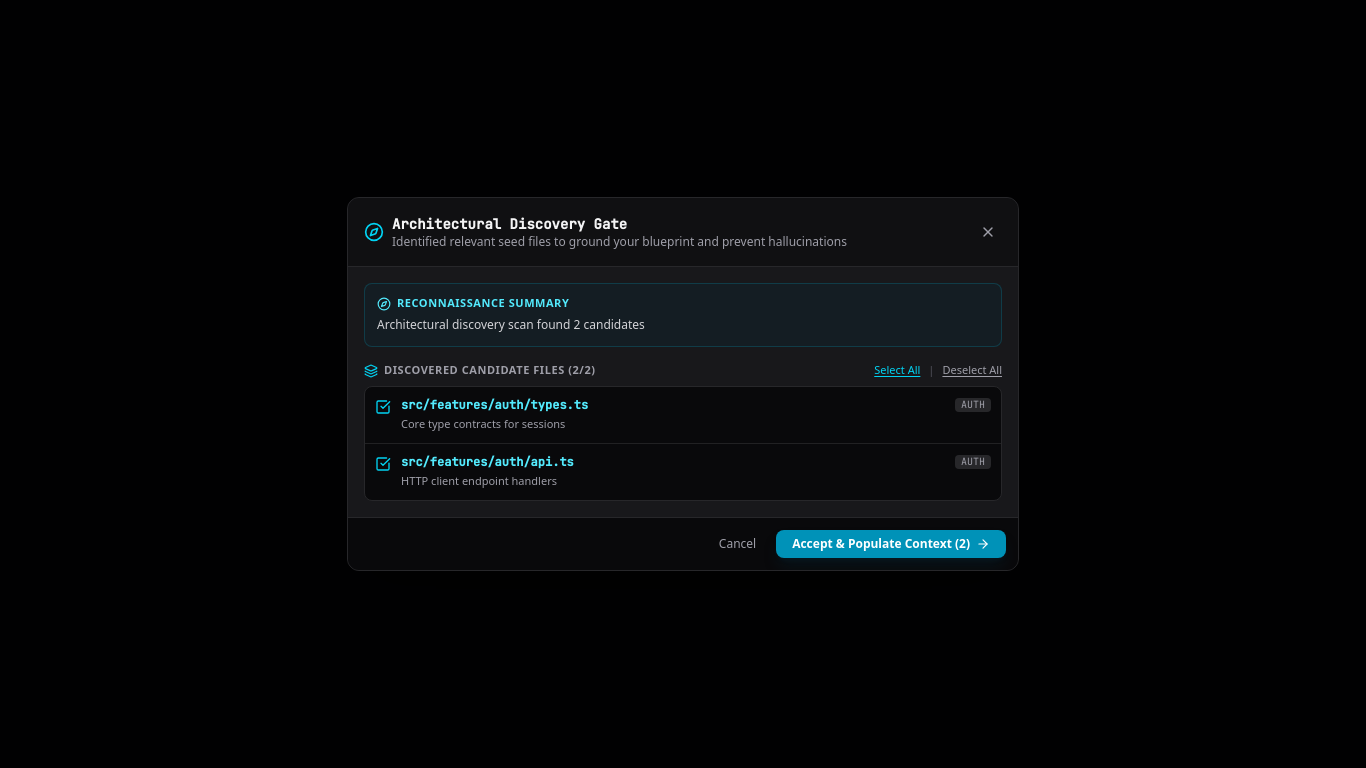
BlueprintDiscoveryModal › handles Deselect All and Select All button clicks
This screenshot has width=1366, height=768.
Click the button "Deselect All": (972, 371) x1=942 y1=363 x2=1002 y2=378
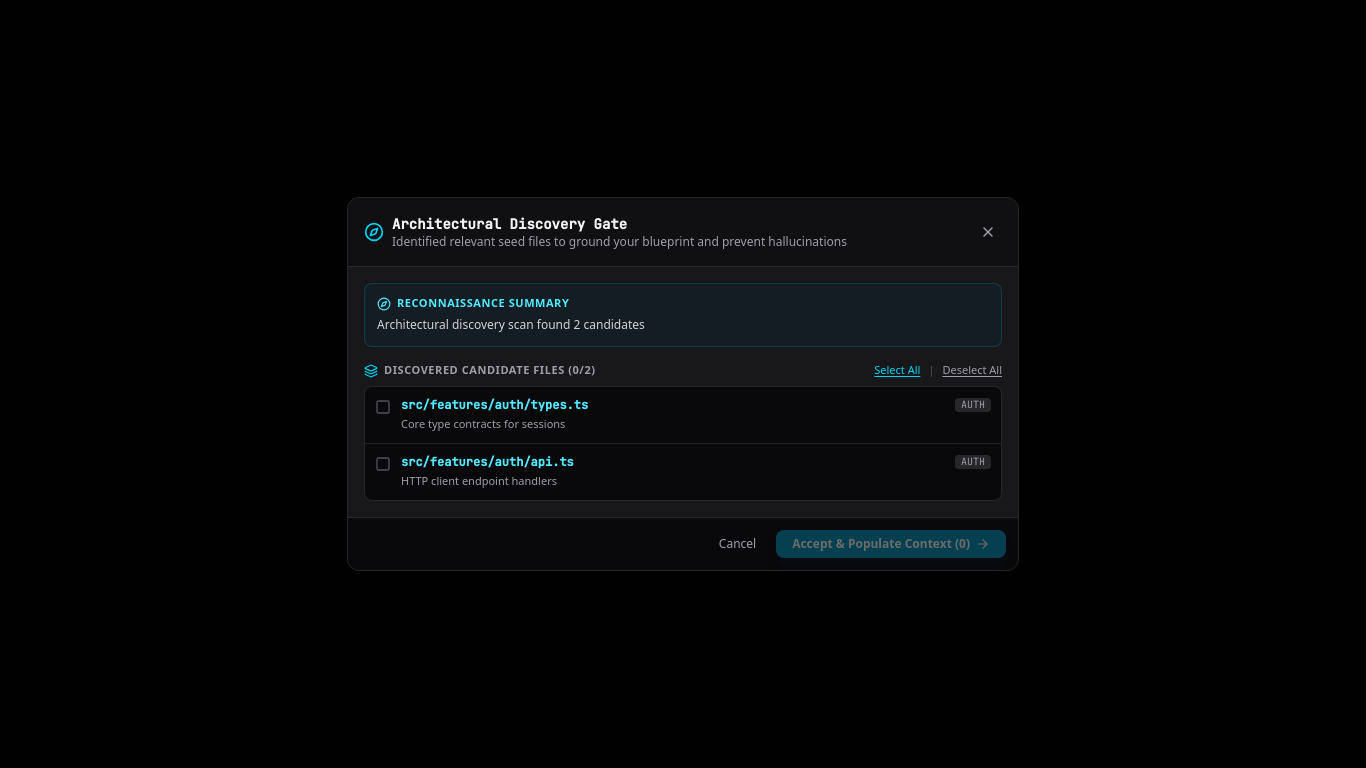
Expected: the text "Discovered Candidate Files (0/2)" is shown, x1=384 y1=363 x2=596 y2=378
Click the button "Select All": (897, 371) x1=874 y1=363 x2=920 y2=378
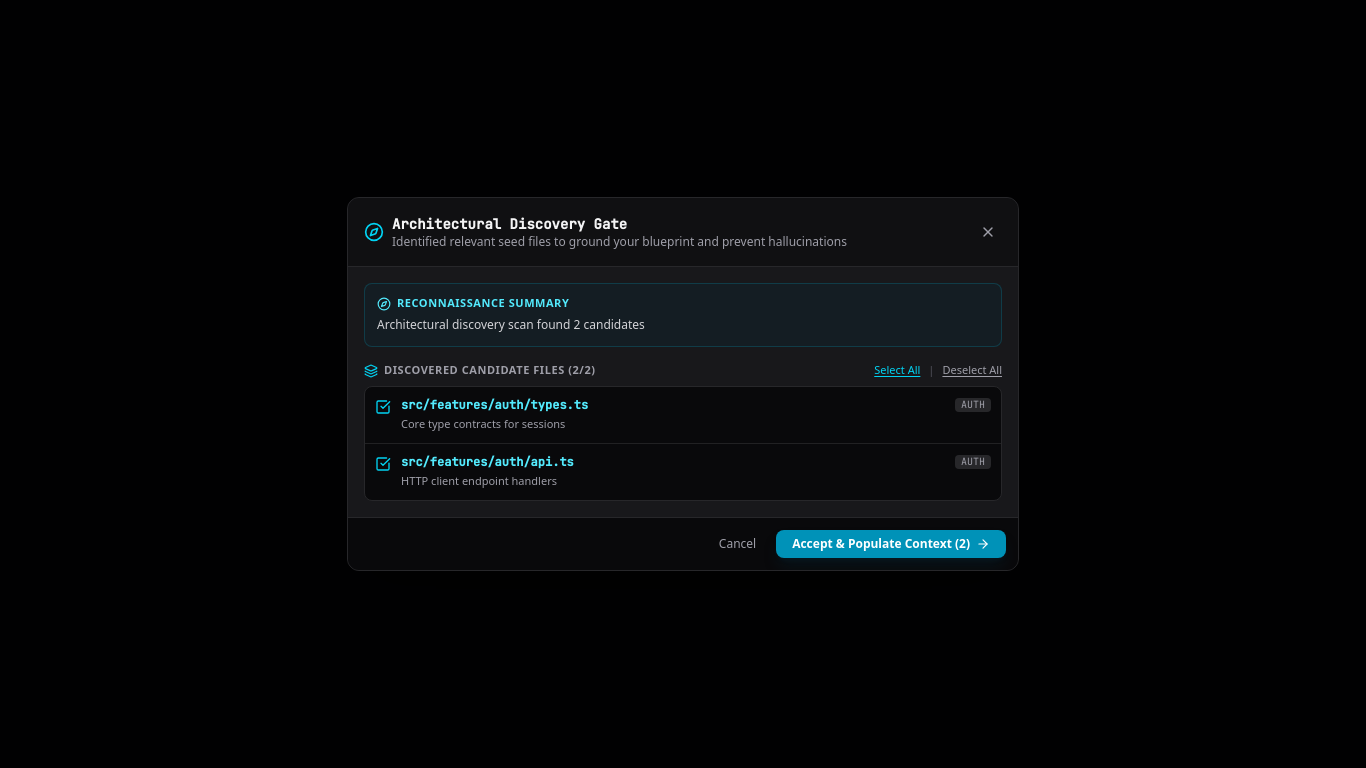
Expected: the text "Discovered Candidate Files (2/2)" is shown, x1=384 y1=363 x2=596 y2=378
